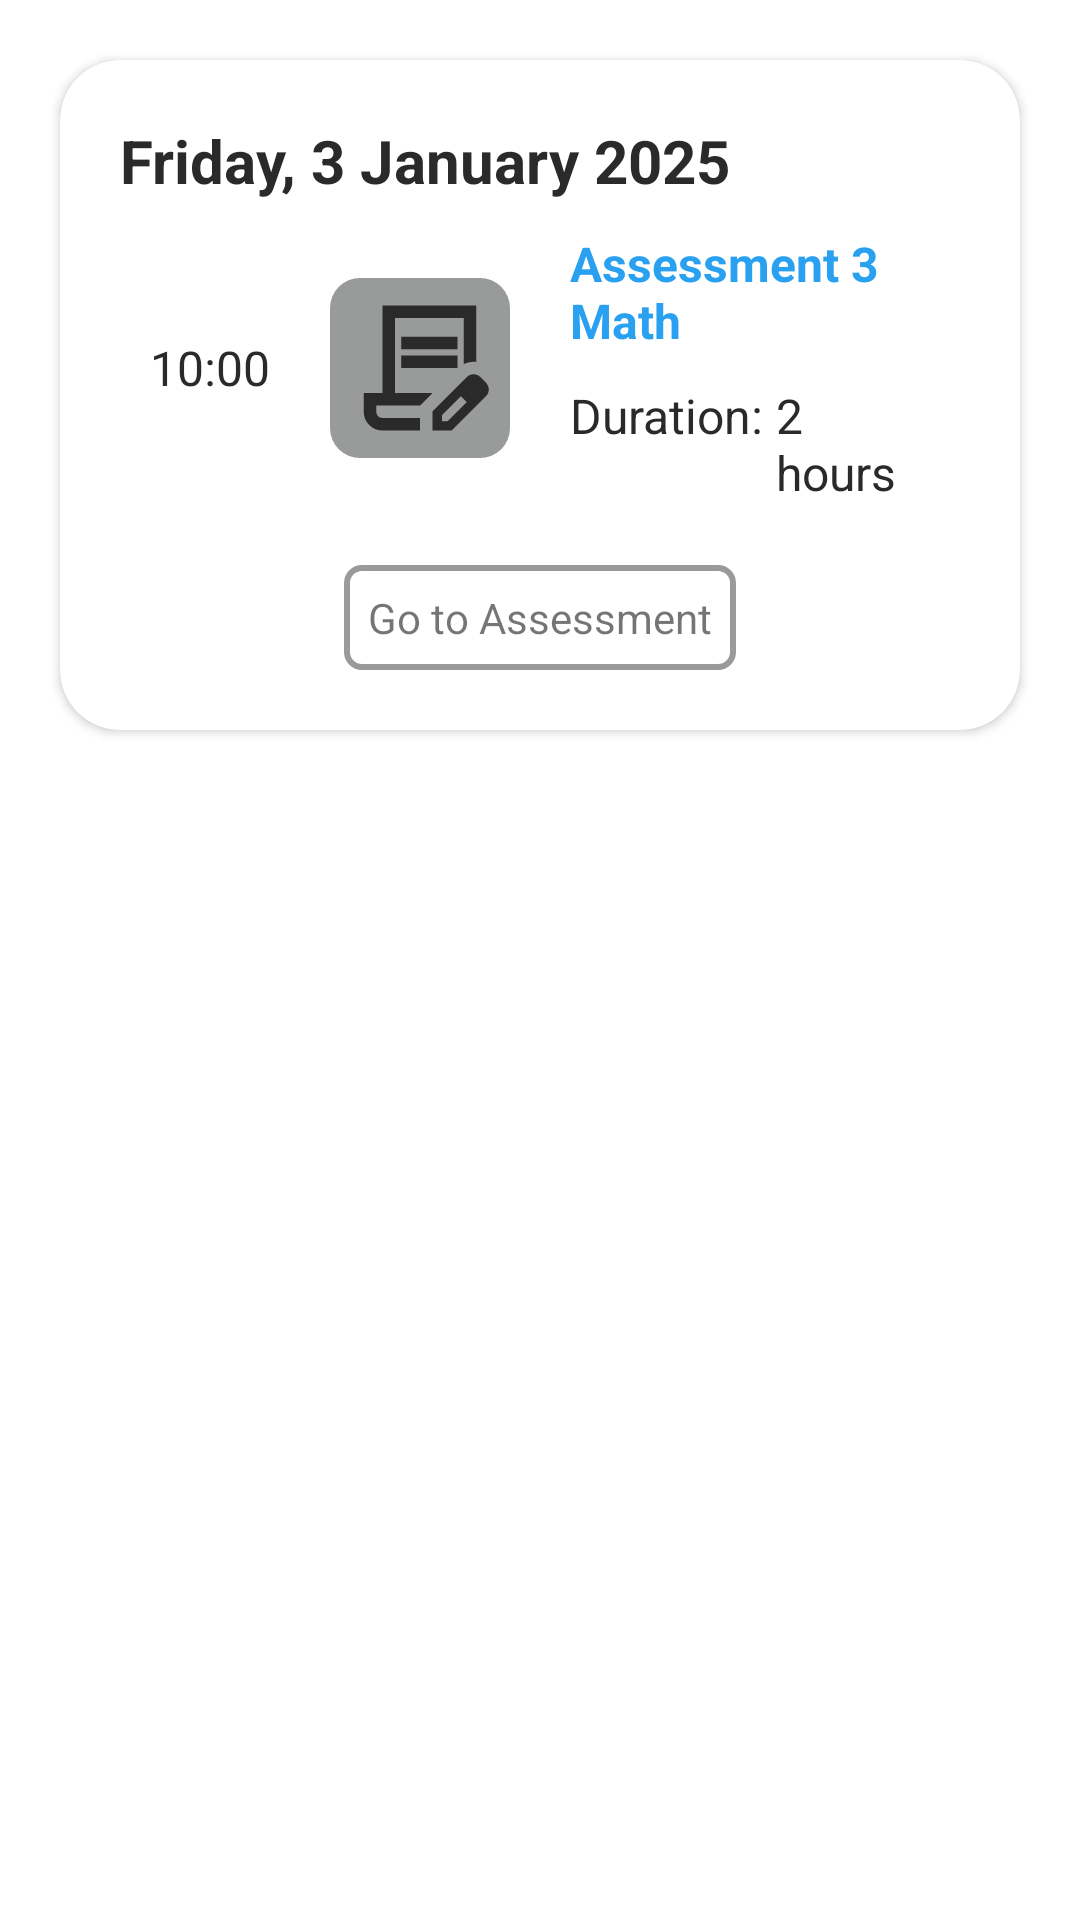

Where to tap for icons on this 1080x1920 app screen, as [x,y]:
assessment coming: [420,368]
